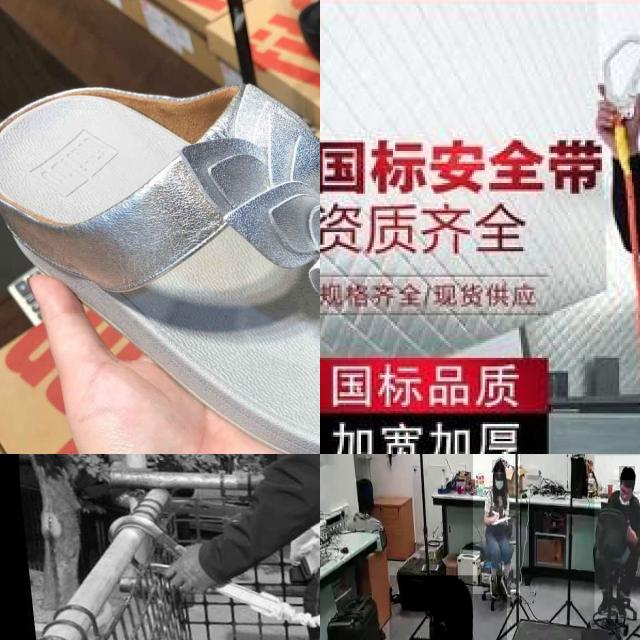Sandals: (0, 29, 320, 454)
face_mask: (494, 474, 504, 496)
hand_noglove: (490, 508, 500, 522)
head_nohelmet: (431, 575, 473, 621), (619, 466, 635, 481), (492, 460, 505, 473)
person: (594, 455, 640, 619), (473, 454, 520, 594)
shoes: (485, 570, 501, 600), (615, 589, 630, 618)
